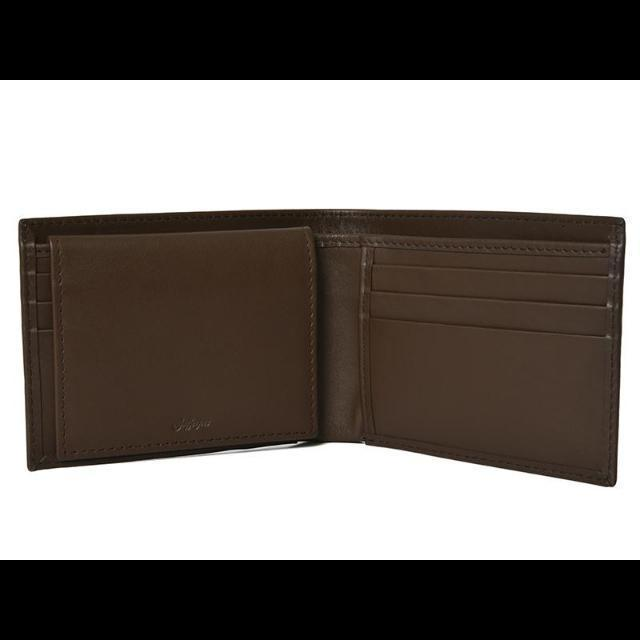wallet: (14, 210, 624, 492)
